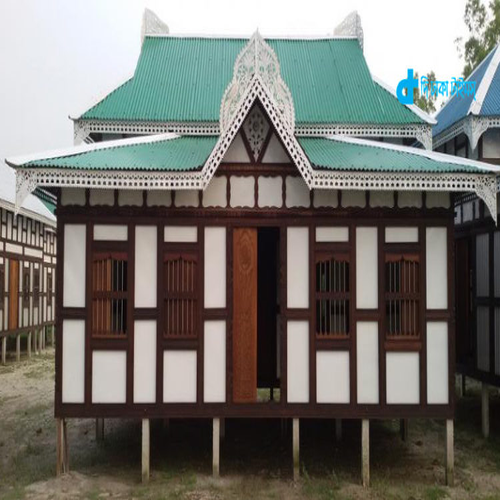Tin-shade House: (15, 4, 484, 448)
